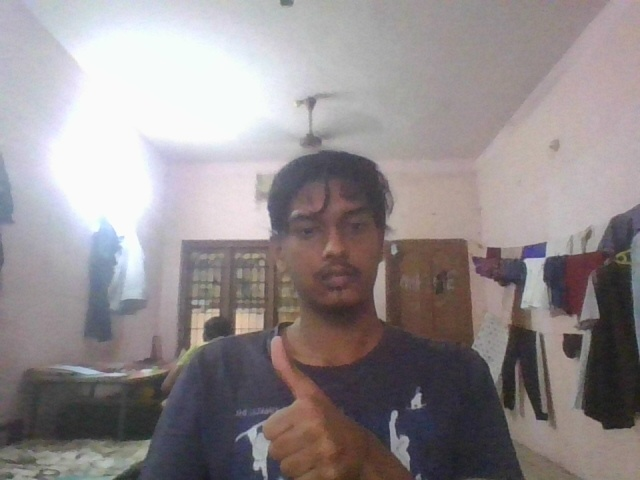thumbsup: (255, 329, 406, 480)
